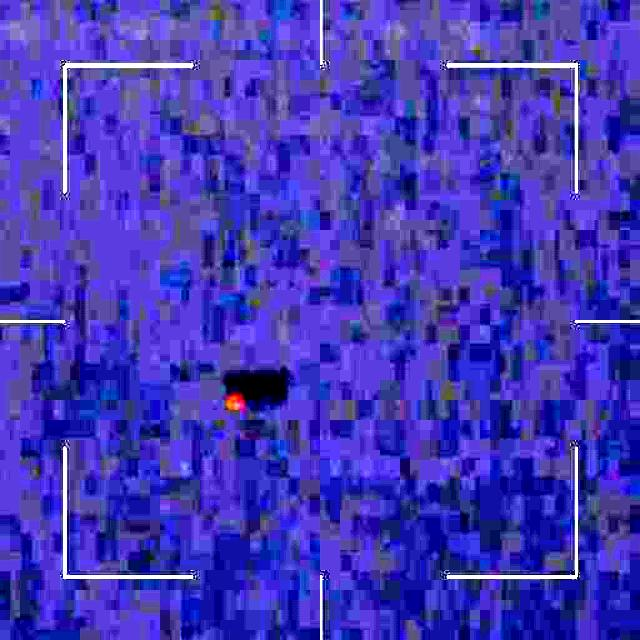bird: (214, 372, 249, 431)
